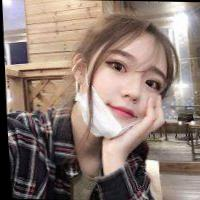WRONG: (75, 48, 172, 141)
